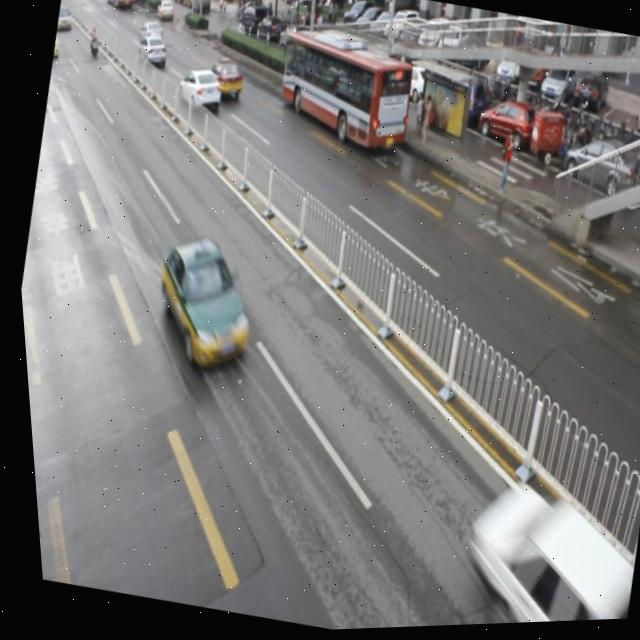car: (437, 473, 640, 628), (137, 229, 264, 378), (171, 64, 223, 119), (197, 56, 247, 107)
van: (266, 26, 420, 161)
